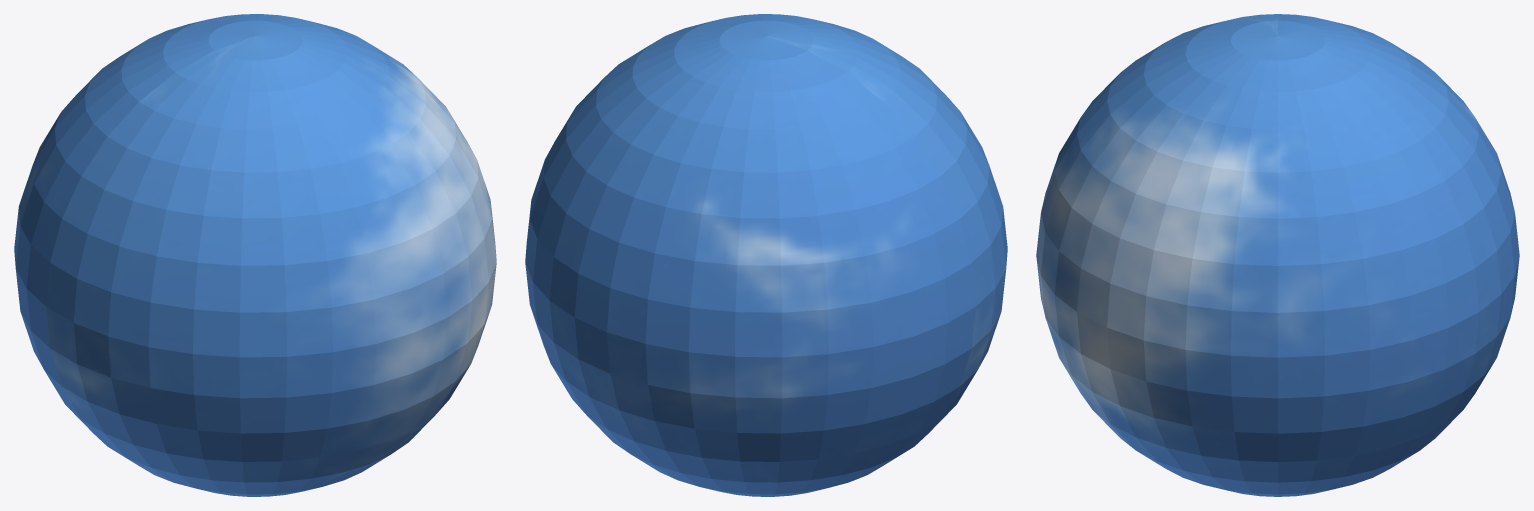
Rendered from sky.obj.
3 views of the same model, side by side, from view 1: azimuth 30°, elevation 25°; view 2: azimuth 150°, elevation 25°; view 3: azimuth 270°, elevation 25° (orthographic).
Parts seen in each view (by area): view 1: 球; view 2: 球; view 3: 球.
Boxes of the visible parts, bbox=[...] form: 球: bbox=[14, 14, 496, 496]; 球: bbox=[525, 14, 1007, 496]; 球: bbox=[1036, 14, 1519, 496].
Bounding box in the file's own units: 200 × 200 × 200.
Materials: 1 (1 with a texture image).
